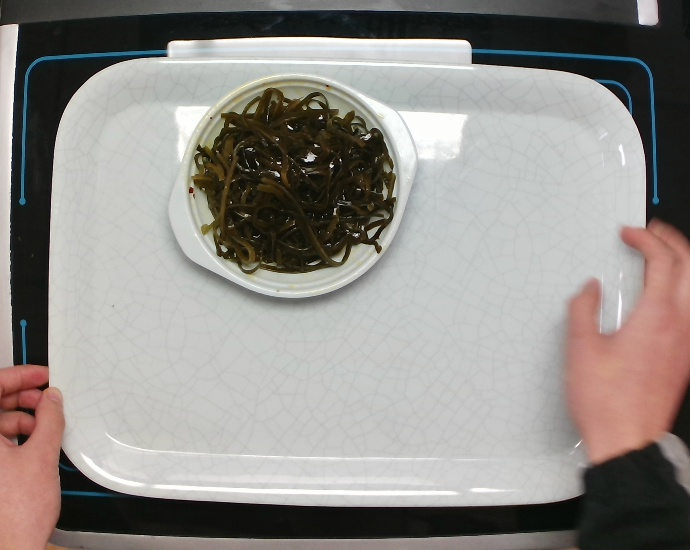JYsf-Shuang_Er_Pan: (165, 70, 421, 301)
